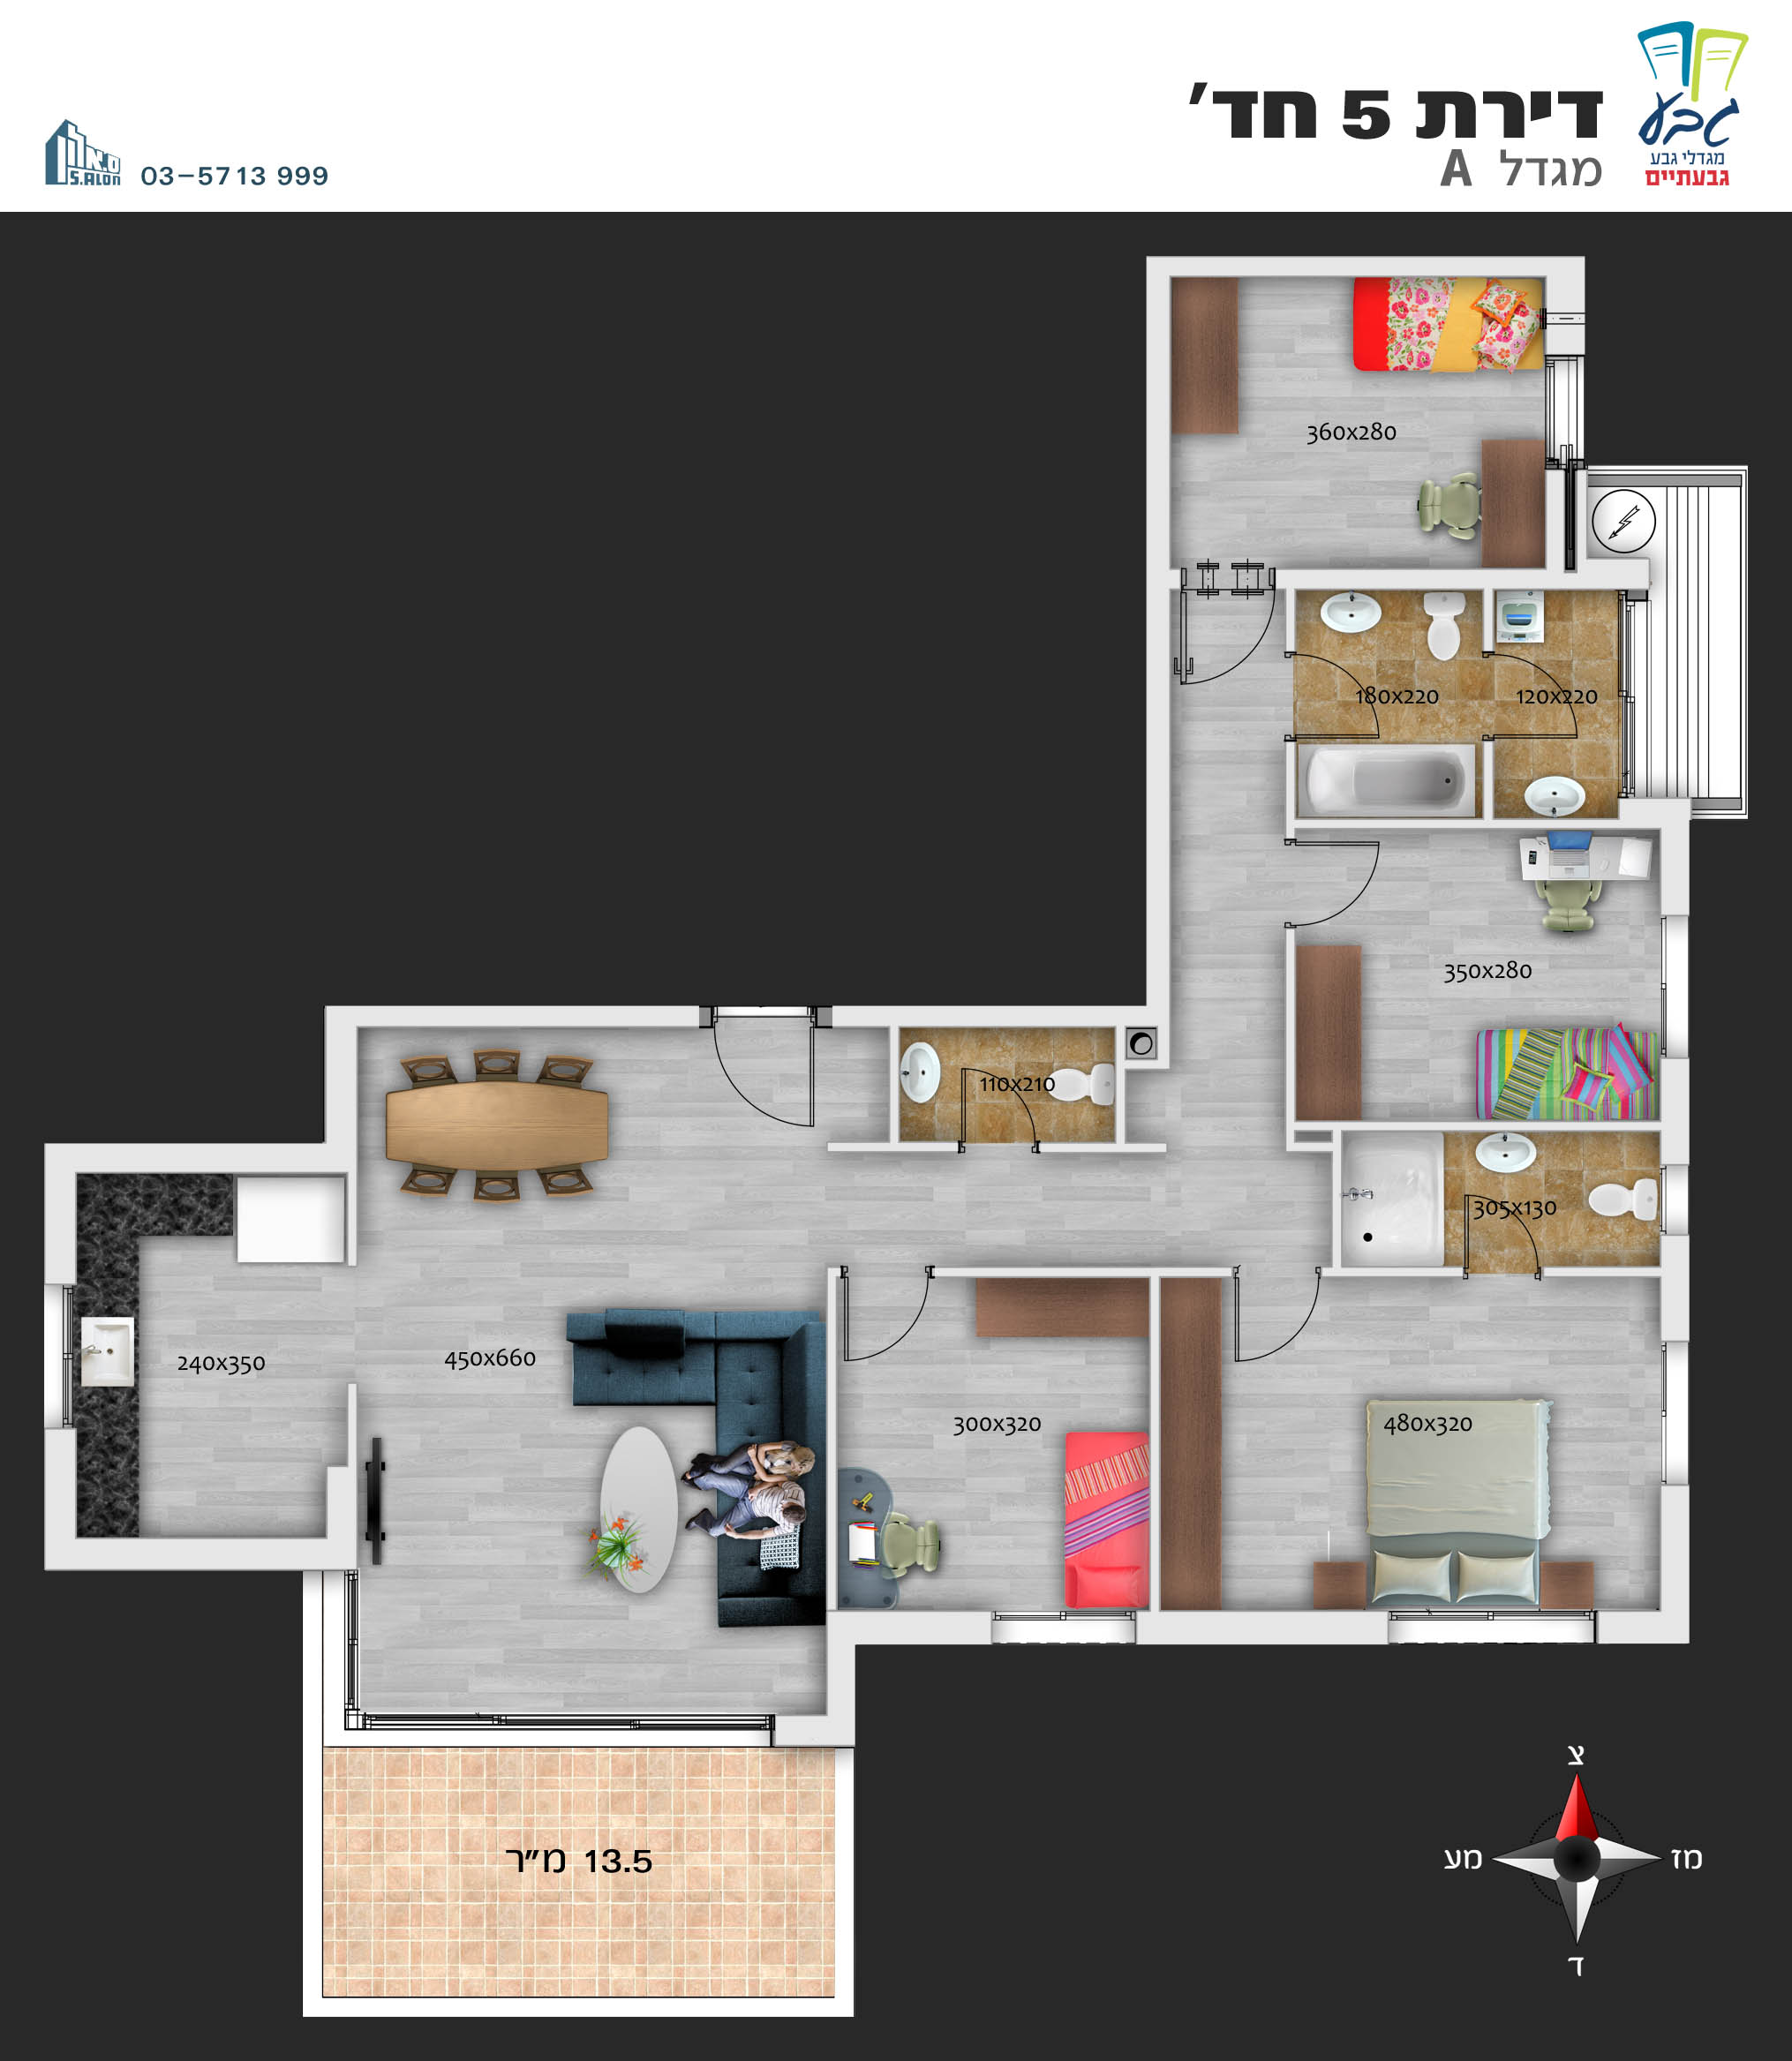door: (705, 1050, 838, 1132), (1173, 599, 1276, 694), (1313, 645, 1404, 740), (1227, 1285, 1310, 1388), (1517, 652, 1603, 750), (838, 1302, 945, 1376), (1450, 1185, 1550, 1262), (1333, 829, 1401, 934), (961, 1064, 1035, 1127)
wall: (1147, 261, 1168, 939), (1147, 256, 1587, 280), (40, 1540, 359, 1570), (1140, 1616, 1382, 1642), (44, 1430, 75, 1569), (828, 1611, 857, 1744), (366, 1716, 635, 1730), (772, 1716, 857, 1746), (326, 1467, 354, 1555), (345, 1567, 358, 1726)
window: (992, 1612, 1140, 1646), (636, 1717, 773, 1751), (1385, 1609, 1497, 1639), (1492, 1612, 1599, 1640), (47, 1281, 67, 1421)
